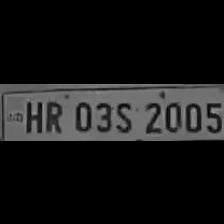0: (69, 97, 93, 132), (162, 98, 182, 132), (181, 98, 201, 132)
2: (140, 97, 162, 133)
3: (92, 97, 112, 132)
5: (202, 97, 222, 132)
H: (22, 97, 42, 132)
R: (42, 96, 64, 134)
S: (111, 98, 133, 132)
